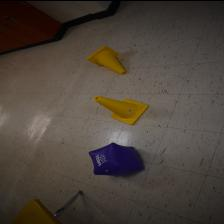cone: (92, 90, 150, 126), (84, 43, 135, 79)
cube: (87, 140, 145, 180)
